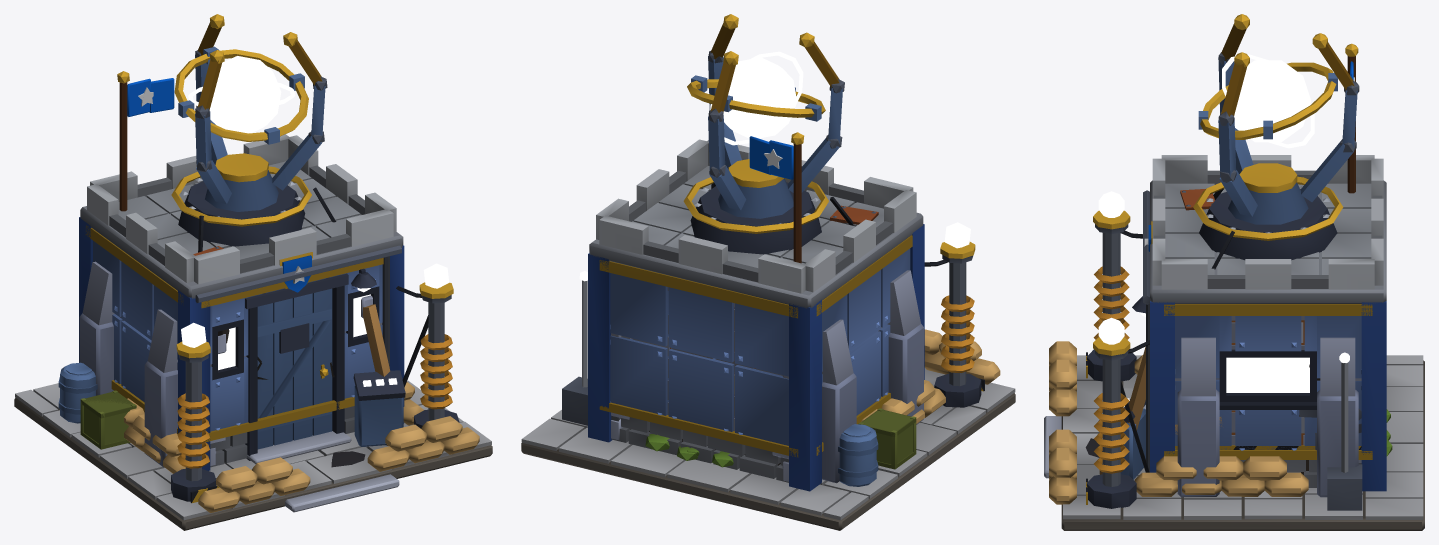
Rendered from b_schild.glb.
The picture shows the model from 3 angles, left to right: view 1: azimuth 30°, elevation 25°; view 2: azimuth 150°, elevation 25°; view 3: azimuth 270°, elevation 25°; orthographic projection. The views are drawn at different scales.
Parts seen in each view (by area): view 1: body, lv7_haus, lv4_haus, lv4_ausbau, lv7_gold, pulse_kern_glow, spin_ring, lvmax3_haus, sway_flag, dmg2_bruch, win_glow, spin_ring2_glow; view 2: body, lv7_haus, lv4_haus, lv7_gold, pulse_kern_glow, lv4_ausbau, spin_ring, sway_flag, lvmax3_haus, spin_ring2_glow; view 3: body, lv7_haus, lv4_haus, lv4_ausbau, lvmax3_haus, lv7_gold, pulse_kern_glow, win_glow, spin_ring, dmg2_bruch, spin_ring2_glow, pulse_spule2_glow (+1 smaller).
Boxes of the visible parts, box(x1,y1,x2,y2) form: body: box(14, 22, 492, 530); lv7_haus: box(79, 217, 404, 470); lv4_haus: box(79, 261, 382, 467); lv4_ausbau: box(198, 416, 479, 513); lv7_gold: box(117, 14, 453, 358); pulse_kern_glow: box(209, 56, 281, 133); spin_ring: box(174, 46, 308, 144); lvmax3_haus: box(124, 382, 423, 473); sway_flag: box(127, 78, 174, 116); dmg2_bruch: box(363, 304, 428, 445); win_glow: box(218, 294, 370, 370); spin_ring2_glow: box(188, 80, 295, 105); body: box(521, 23, 1015, 530); lv7_haus: box(588, 224, 924, 491); lv4_haus: box(611, 270, 923, 483); lv7_gold: box(683, 14, 975, 263); pulse_kern_glow: box(723, 57, 796, 138); lv4_ausbau: box(562, 280, 1000, 425); spin_ring: box(687, 75, 825, 121); sway_flag: box(749, 136, 793, 179); lvmax3_haus: box(631, 307, 945, 423); spin_ring2_glow: box(710, 51, 803, 145); body: box(1044, 23, 1424, 530); lv7_haus: box(1150, 301, 1386, 491); lv4_haus: box(1175, 316, 1361, 497); lv4_ausbau: box(1049, 341, 1362, 510); lvmax3_haus: box(1134, 320, 1308, 496); lv7_gold: box(1093, 14, 1358, 355); pulse_kern_glow: box(1234, 60, 1311, 142); win_glow: box(1226, 357, 1309, 392); spin_ring: box(1198, 62, 1337, 139); dmg2_bruch: box(1099, 346, 1361, 474); spin_ring2_glow: box(1222, 54, 1314, 148); pulse_spule2_glow: box(1098, 317, 1124, 344).
Size of the model in its own units: 5.5 by 6.63 by 5.47.
